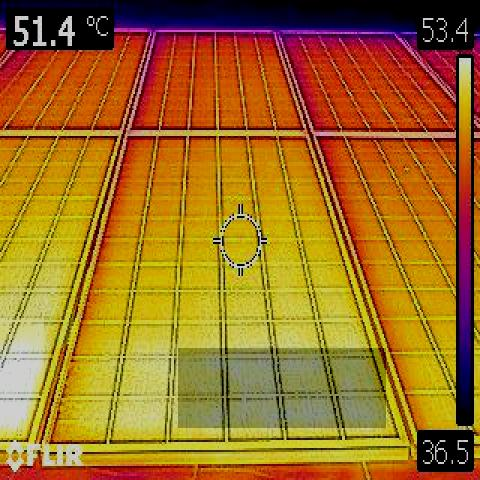fault: (178, 348, 386, 428), (0, 318, 44, 446)
